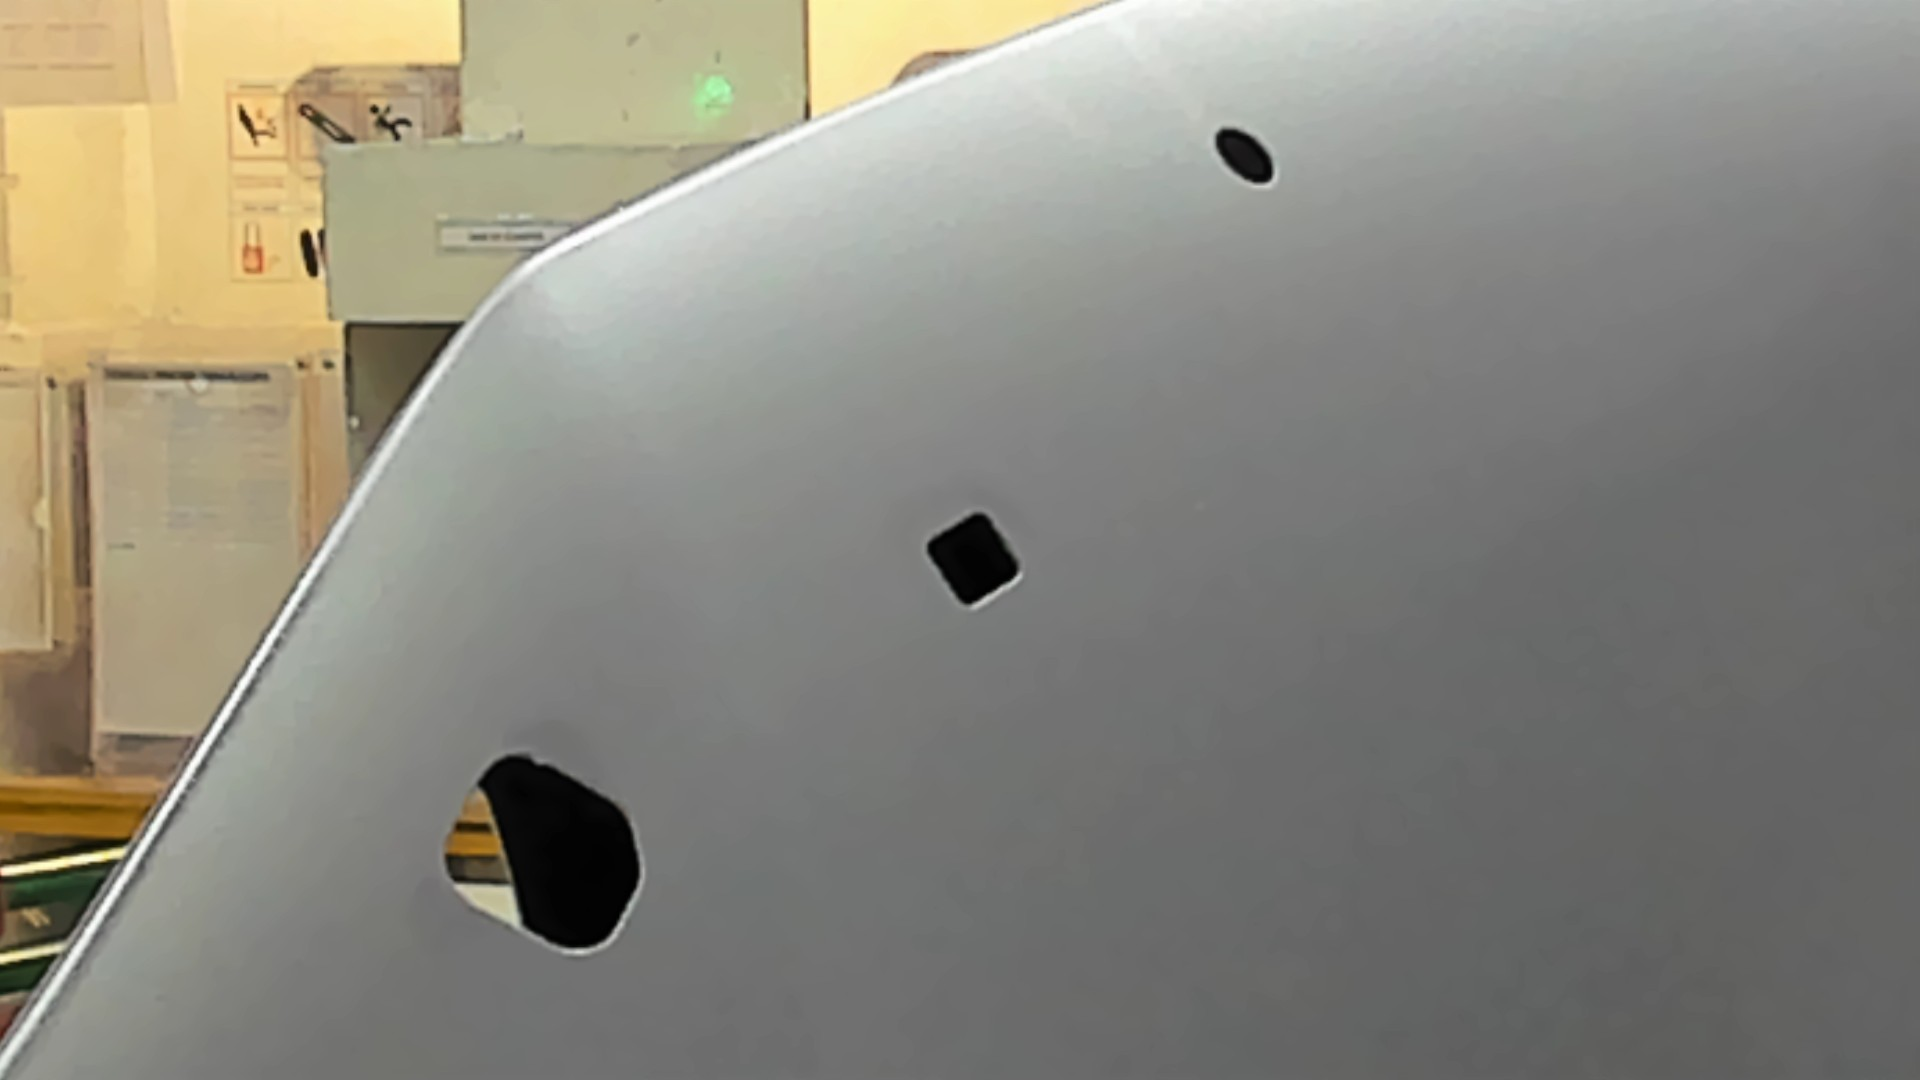chico: (1200, 117, 1292, 196)
grande: (401, 741, 669, 978)
mediano: (910, 501, 1044, 624)
